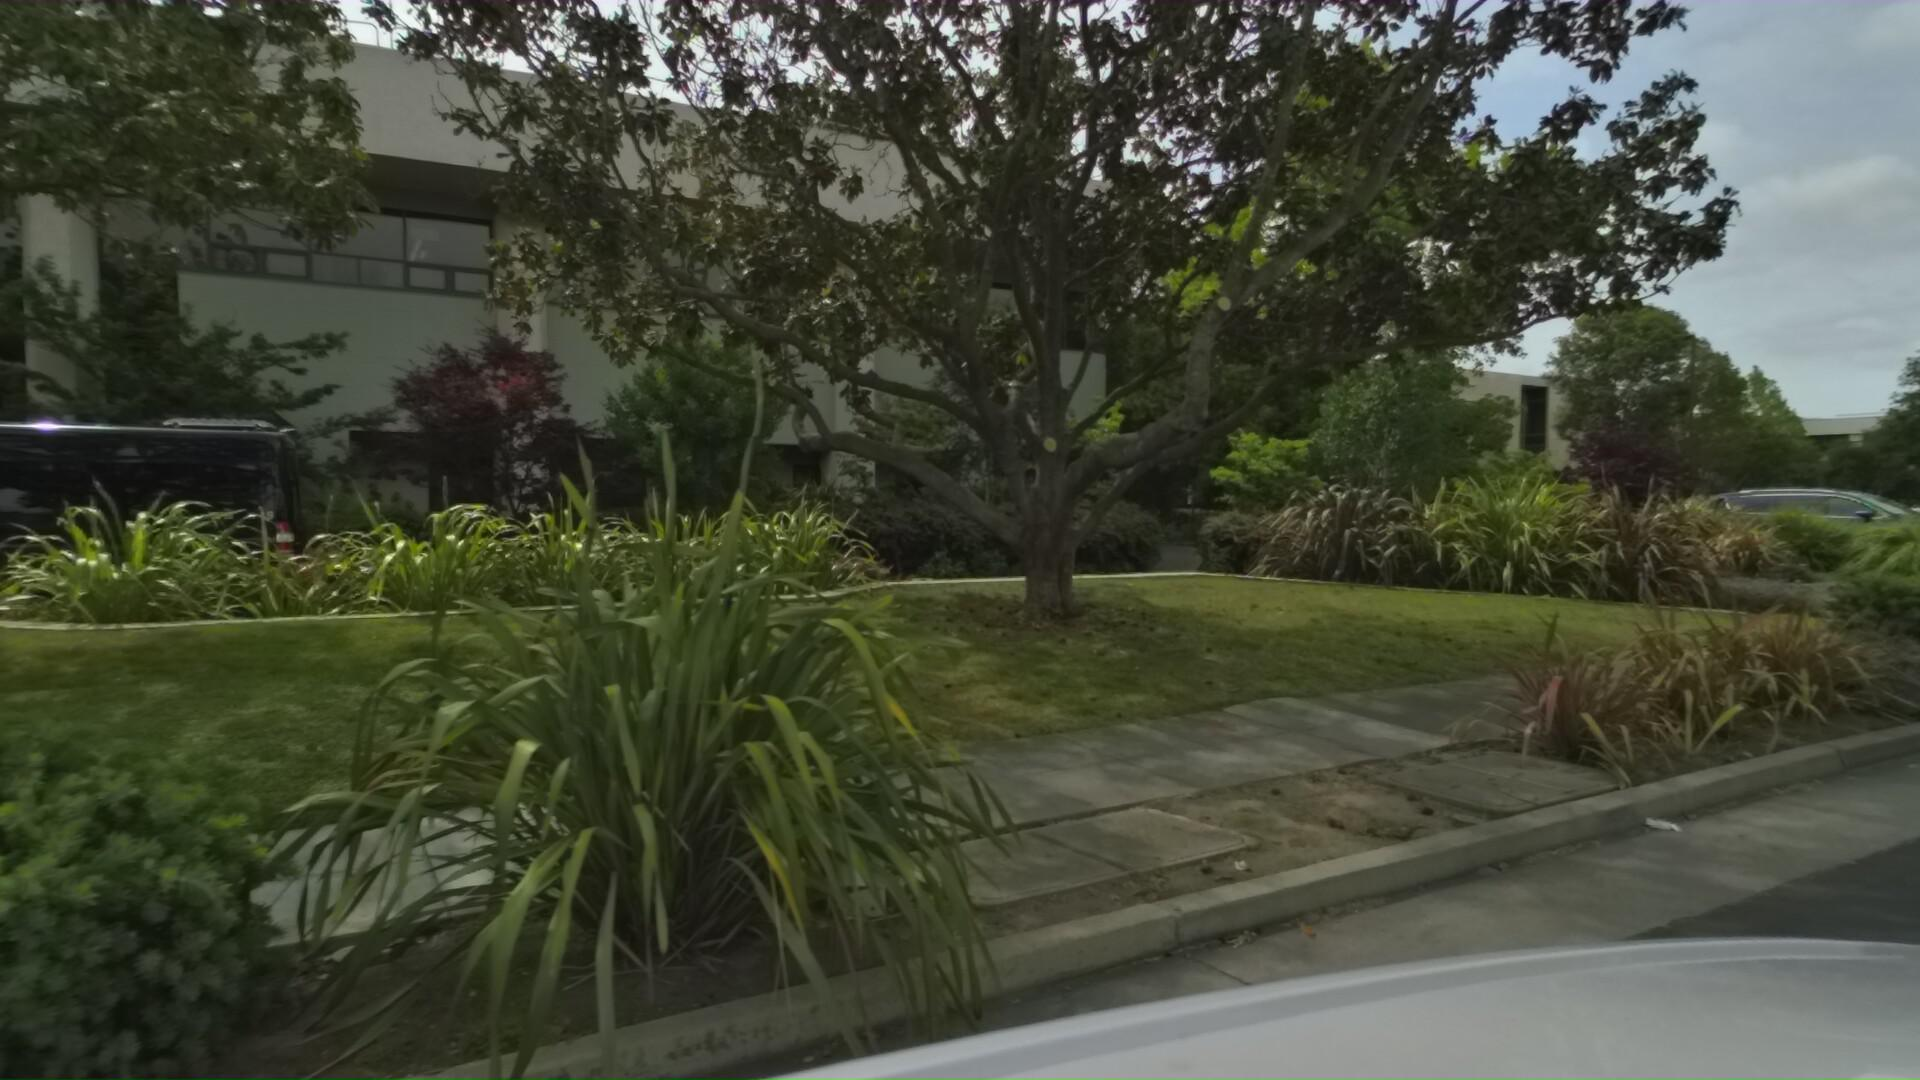car: (0, 390, 369, 655), (1695, 484, 1920, 564)
